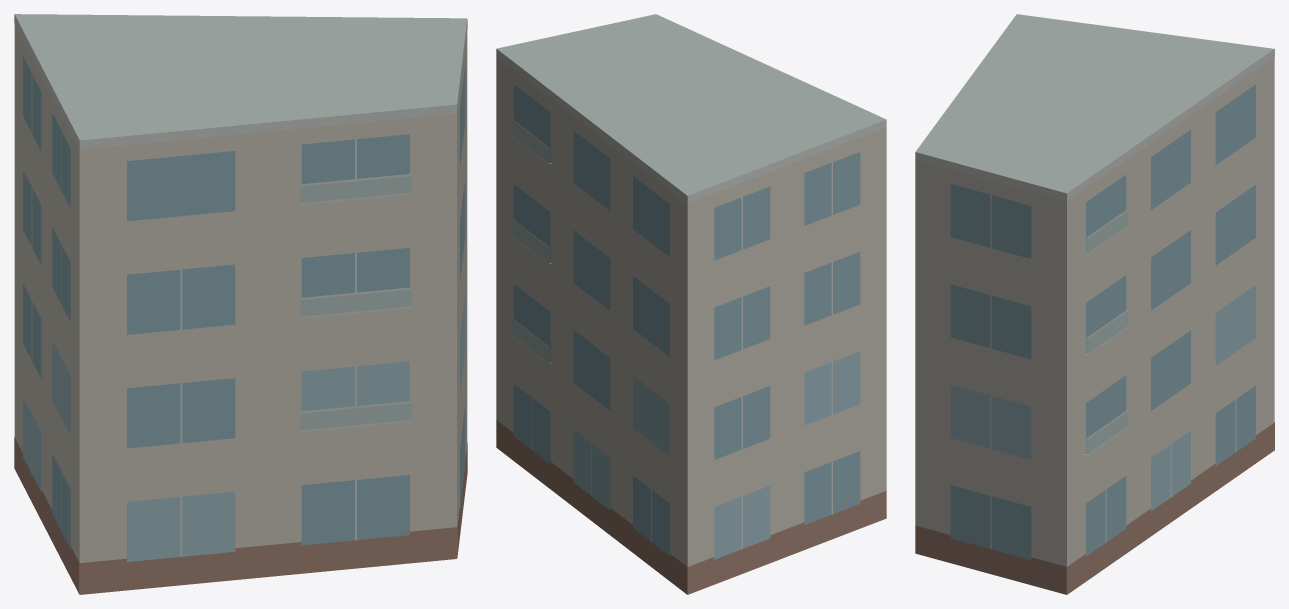
The model's file is residential-2189d3cf-3b32-4488-8bc9-f8b203036e70.glb.
3 views of the same model, side by side, from view 1: azimuth 30°, elevation 25°; view 2: azimuth 150°, elevation 25°; view 3: azimuth 270°, elevation 25° (orthographic). The views are drawn at different scales.
Visible parts, largest first — view 1: residential-2189d3cf-3b32-4488-8bc9-f8b203036e70.tmp; view 2: residential-2189d3cf-3b32-4488-8bc9-f8b203036e70.tmp; view 3: residential-2189d3cf-3b32-4488-8bc9-f8b203036e70.tmp.
Boxes of the visible parts, <box> form: residential-2189d3cf-3b32-4488-8bc9-f8b203036e70.tmp: <box>14,14,467,594</box>; residential-2189d3cf-3b32-4488-8bc9-f8b203036e70.tmp: <box>496,14,886,594</box>; residential-2189d3cf-3b32-4488-8bc9-f8b203036e70.tmp: <box>915,14,1274,594</box>.
Bounding box in the file's own units: 11.7 × 12.2 × 9.91.
